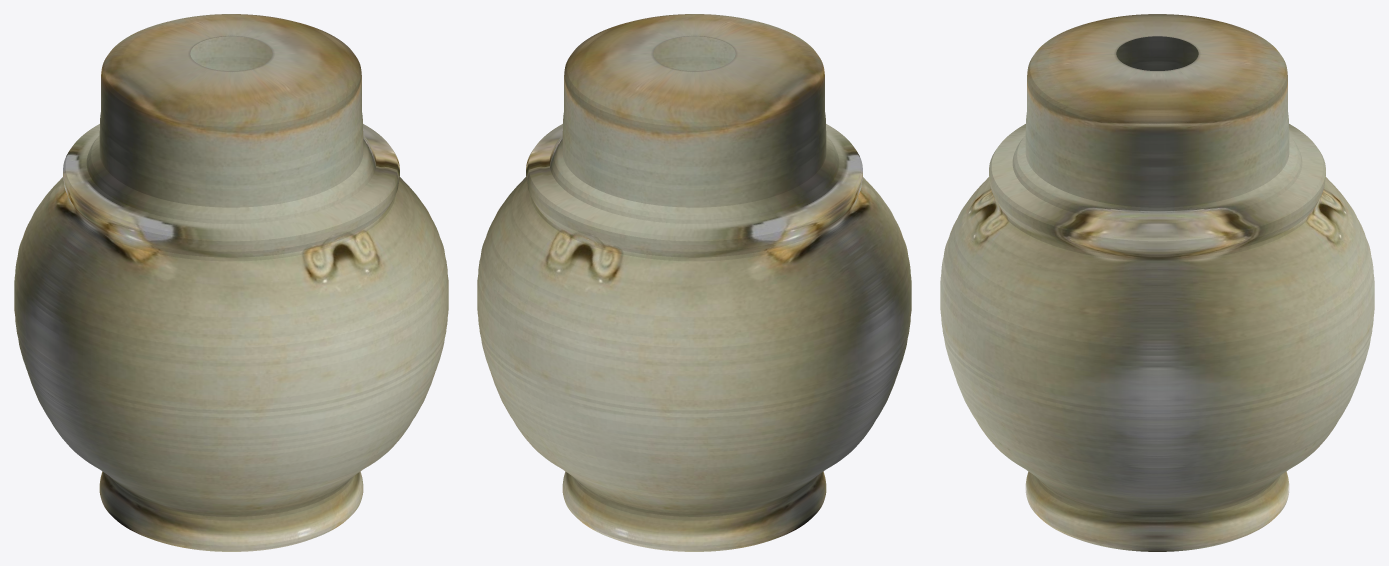
Rendered from cma-76523.glb.
3 renders of one model, left to right at view 1: azimuth 30°, elevation 25°; view 2: azimuth 150°, elevation 25°; view 3: azimuth 270°, elevation 25°, orthographic.
Visible parts, largest first — view 1: geometry_0; view 2: geometry_0; view 3: geometry_0.
Boxes of the visible parts, x1,y1,x2,y2 form: geometry_0: (14,14,448,551); geometry_0: (477,14,911,551); geometry_0: (940,14,1374,551).
Size of the model in its own units: 25.57 by 30 by 25.57.
1 material, 1 textured.
